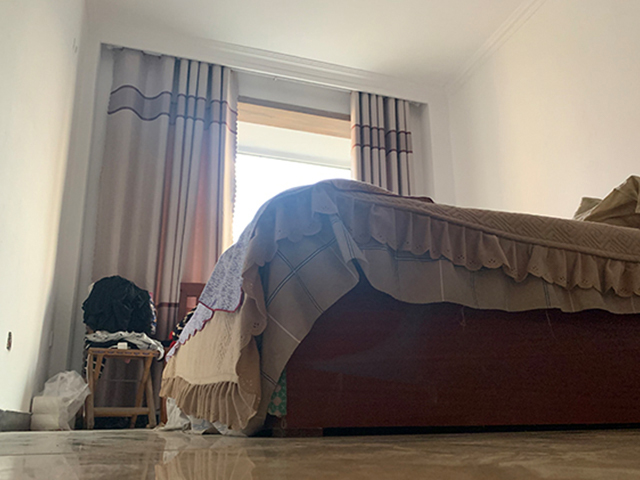bed: (159, 177, 639, 440)
curtain: (107, 44, 241, 314), (342, 88, 417, 197)
stool: (84, 342, 157, 431)
